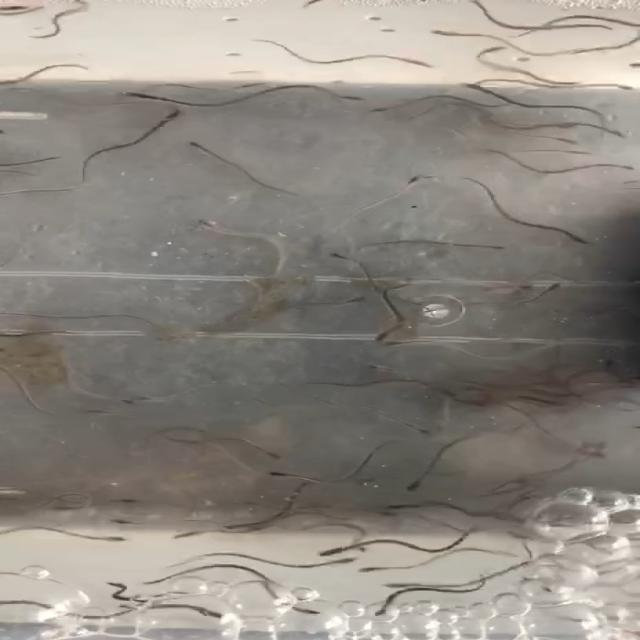active_glass_eel: (363, 594, 400, 619), (354, 561, 406, 575), (401, 473, 437, 492), (196, 215, 230, 235), (92, 530, 132, 547), (281, 601, 329, 615), (391, 498, 431, 514), (195, 608, 238, 622), (593, 76, 633, 91), (104, 494, 144, 508), (392, 56, 438, 68), (240, 81, 282, 94), (257, 448, 291, 464), (376, 326, 409, 342), (430, 27, 470, 40), (170, 530, 217, 541), (312, 543, 348, 557), (268, 470, 309, 482), (367, 101, 411, 112), (568, 234, 605, 247), (340, 294, 374, 308), (121, 89, 160, 101), (109, 393, 139, 408), (550, 119, 584, 132), (409, 422, 440, 436), (380, 336, 416, 348), (463, 79, 495, 92), (402, 174, 427, 190), (104, 520, 144, 530), (606, 160, 636, 173), (0, 1, 35, 12), (553, 136, 584, 148), (334, 92, 367, 103), (479, 44, 508, 56), (188, 141, 209, 157), (329, 252, 357, 264), (544, 278, 562, 295), (334, 556, 364, 566), (164, 107, 183, 122), (484, 241, 509, 252)
